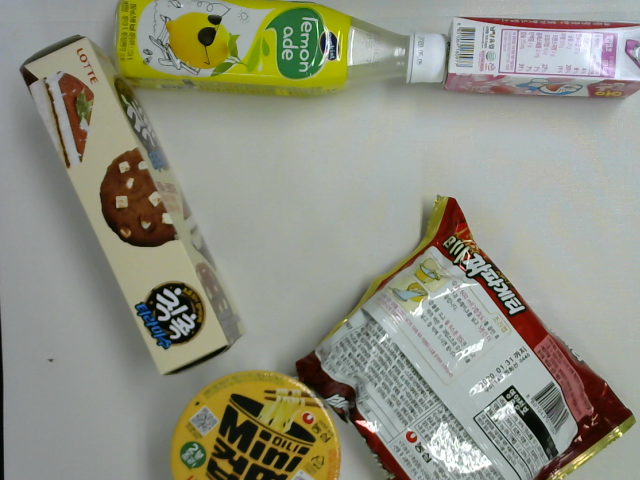Chicchok_Tiramisu: (16, 36, 252, 378)
Hejangmini: (170, 368, 340, 480)
Sichuan_Chapaghetti: (291, 194, 636, 480)
Strawberry_E_Mong: (443, 13, 640, 95)
Sunkist_Lemonaid_Pet: (112, 1, 452, 99)
